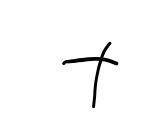plus: (64, 41, 118, 109)
